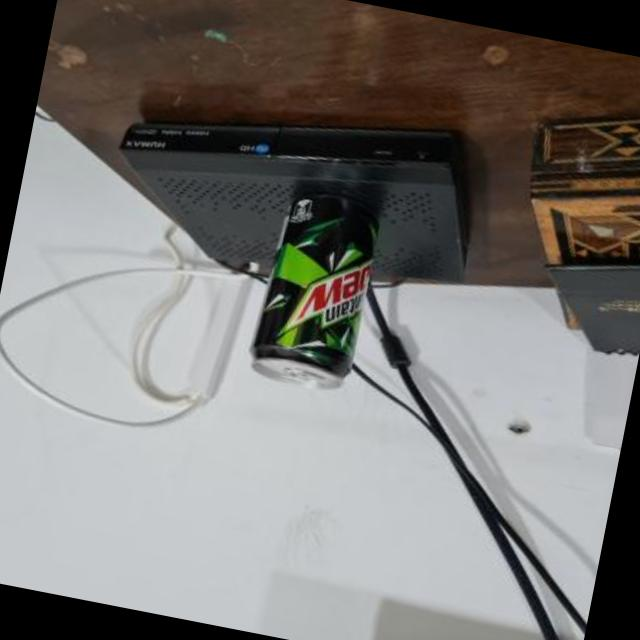metal: (253, 194, 379, 389)
